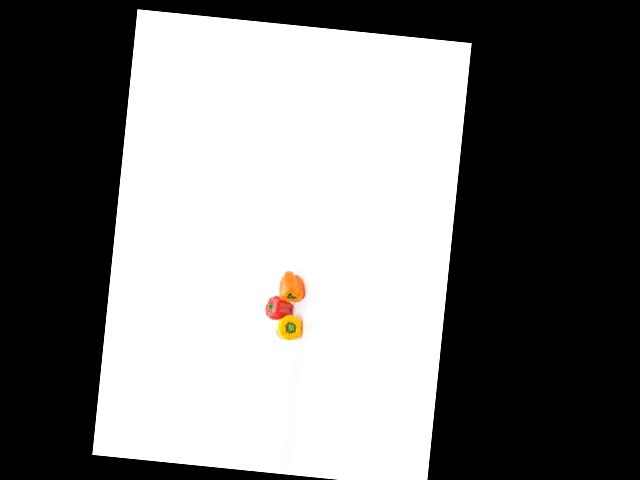bell_pepper: (273, 310, 304, 343)
